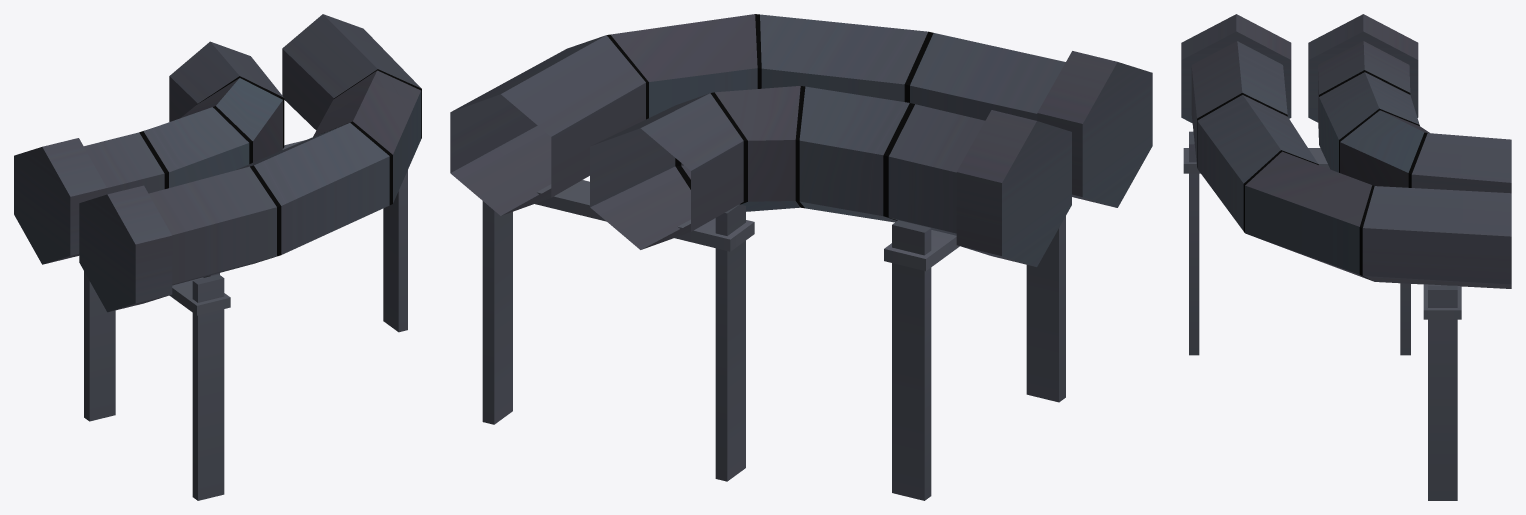
Rendered from SM_Pipe_2.FBX.
The picture shows the model from 3 angles, left to right: view 1: azimuth 30°, elevation 25°; view 2: azimuth 150°, elevation 25°; view 3: azimuth 270°, elevation 25°; orthographic projection. The views are drawn at different scales.
Parts seen in each view (by area): view 1: SM_Pipe_2; view 2: SM_Pipe_2; view 3: SM_Pipe_2.
Boxes of the visible parts, x1,y1,x2,y2 form: SM_Pipe_2: (14, 14, 421, 500); SM_Pipe_2: (450, 14, 1152, 500); SM_Pipe_2: (1181, 14, 1511, 500).
Size of what is drawn, in the model's own units: 344 by 250 by 248.
